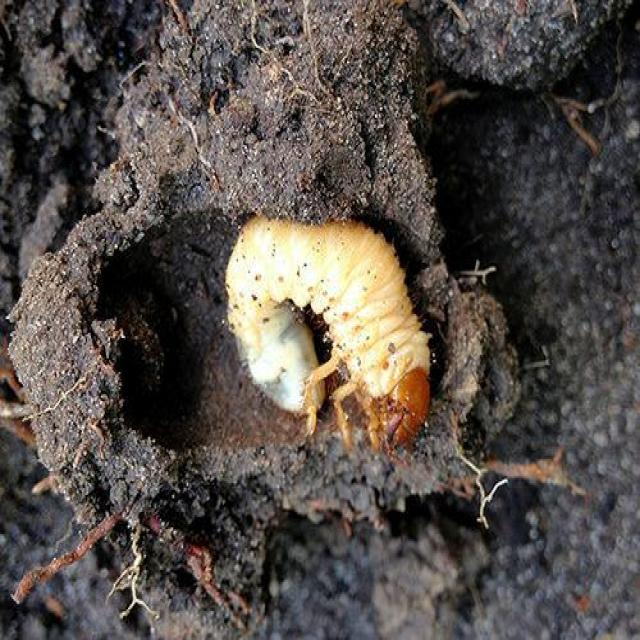Grub-Adult-: (202, 180, 447, 451)
